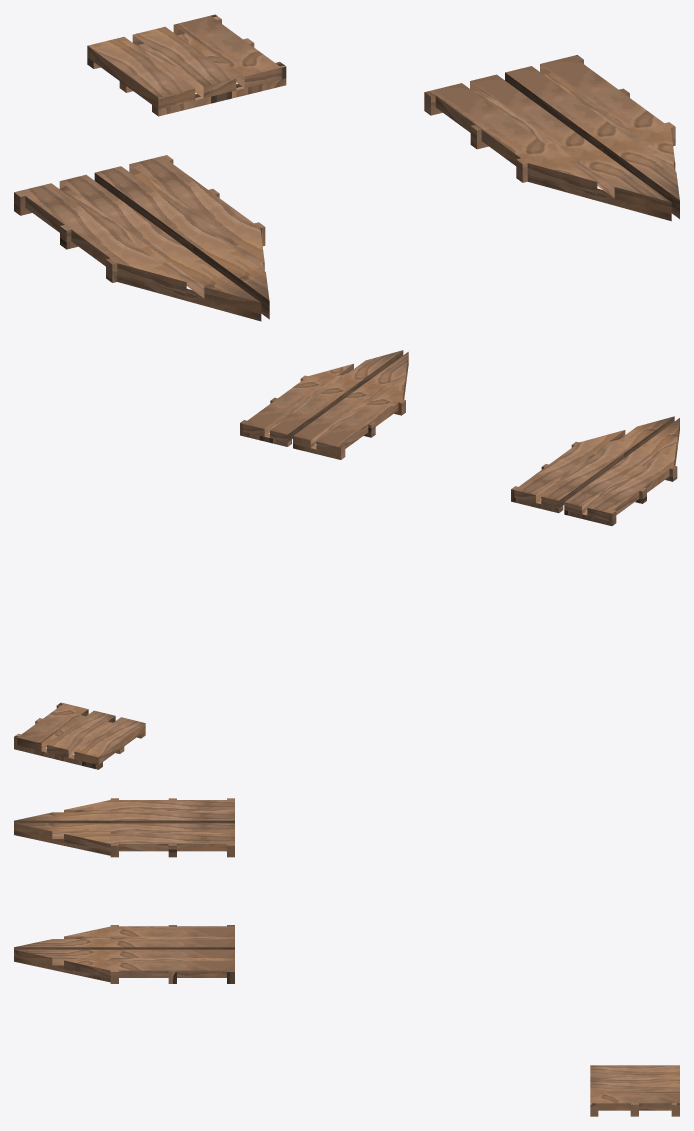
File: shutters.obj
The picture shows the model from 3 angles, top to bottom: view 1: azimuth 30°, elevation 25°; view 2: azimuth 150°, elevation 25°; view 3: azimuth 270°, elevation 25°; orthographic projection. The views are drawn at different scales.
Visible parts, largest first — view 1: house-front-door-diffuse; view 2: house-front-door-diffuse; view 3: house-front-door-diffuse.
Boxes of the visible parts, box(x1,y1,x2,y2) form: house-front-door-diffuse: box(14, 14, 679, 321); house-front-door-diffuse: box(14, 350, 679, 769); house-front-door-diffuse: box(14, 798, 679, 1116).
Bounding box in the file's own units: 2.75 × 1.09 × 4.45.
